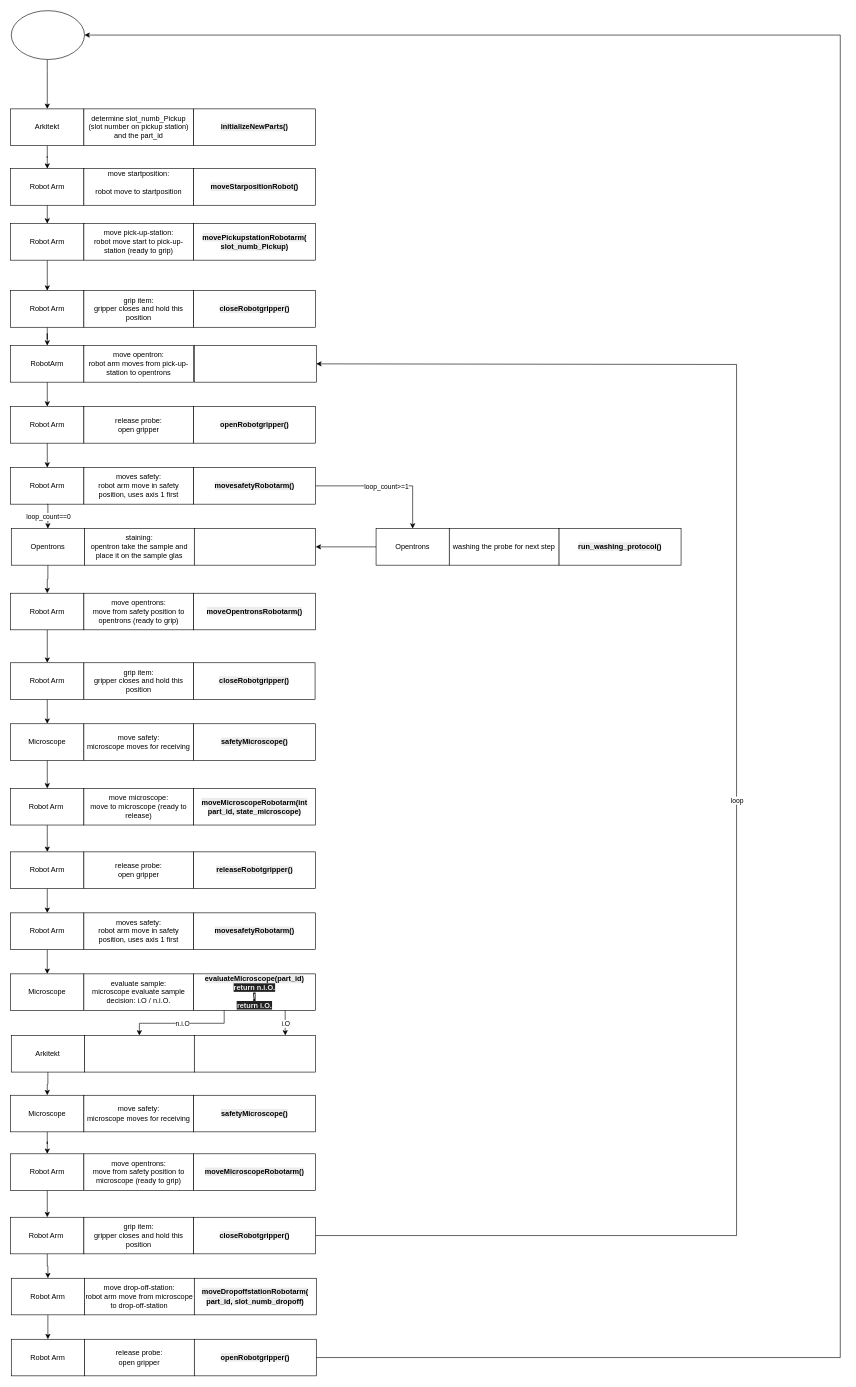
Image size: 856x1387. Some labels were removed from this diagram. The centre of each missing label's shape, as x and y in pixels:
"moveToOpentrons(part_id, slot_numb_opentron, state_opentron)" goes at (255,363).
"partLoopControl(int part_id, loop_count, 1)" goes at (255,1053).
"partLoopControl(int partnumber, loop_count, 0)" goes at (139,1053).
"run_staining_protocol(part_id, slot_numb_opentron)" goes at (255,546).
"Start" goes at (47,34).
